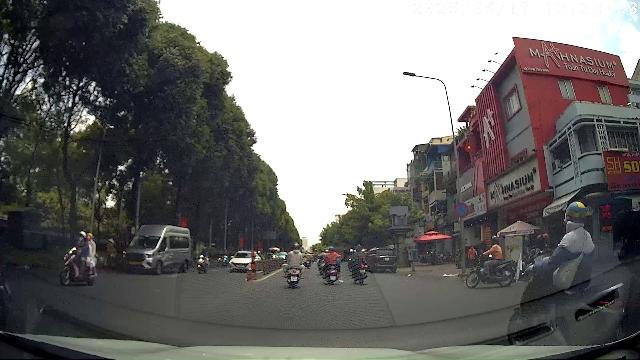131a-cam-do-xe: (455, 202, 469, 218)
